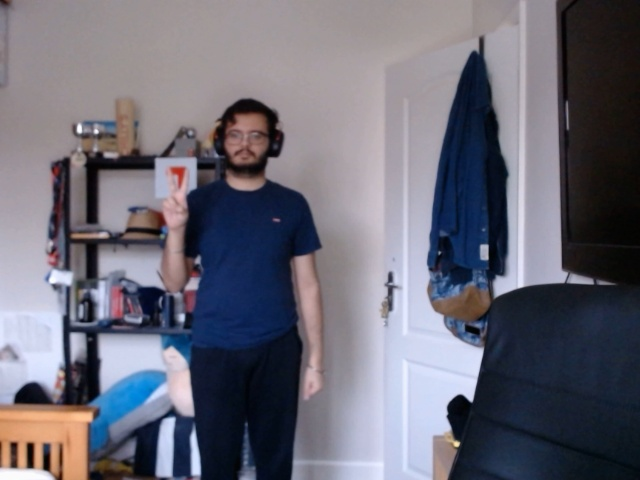Peace: (150, 164, 200, 242)
